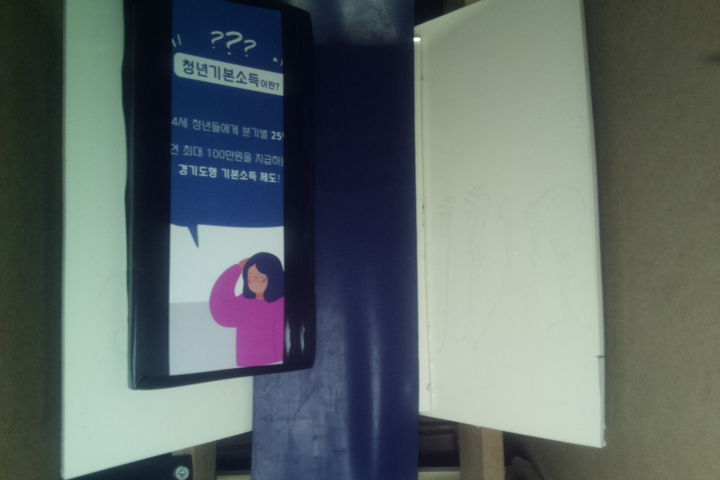book: (123, 1, 318, 393)
